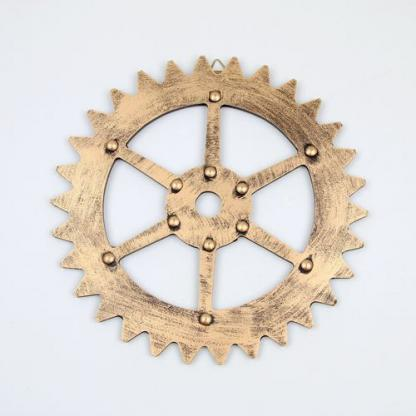FOD: (45, 47, 371, 370)
